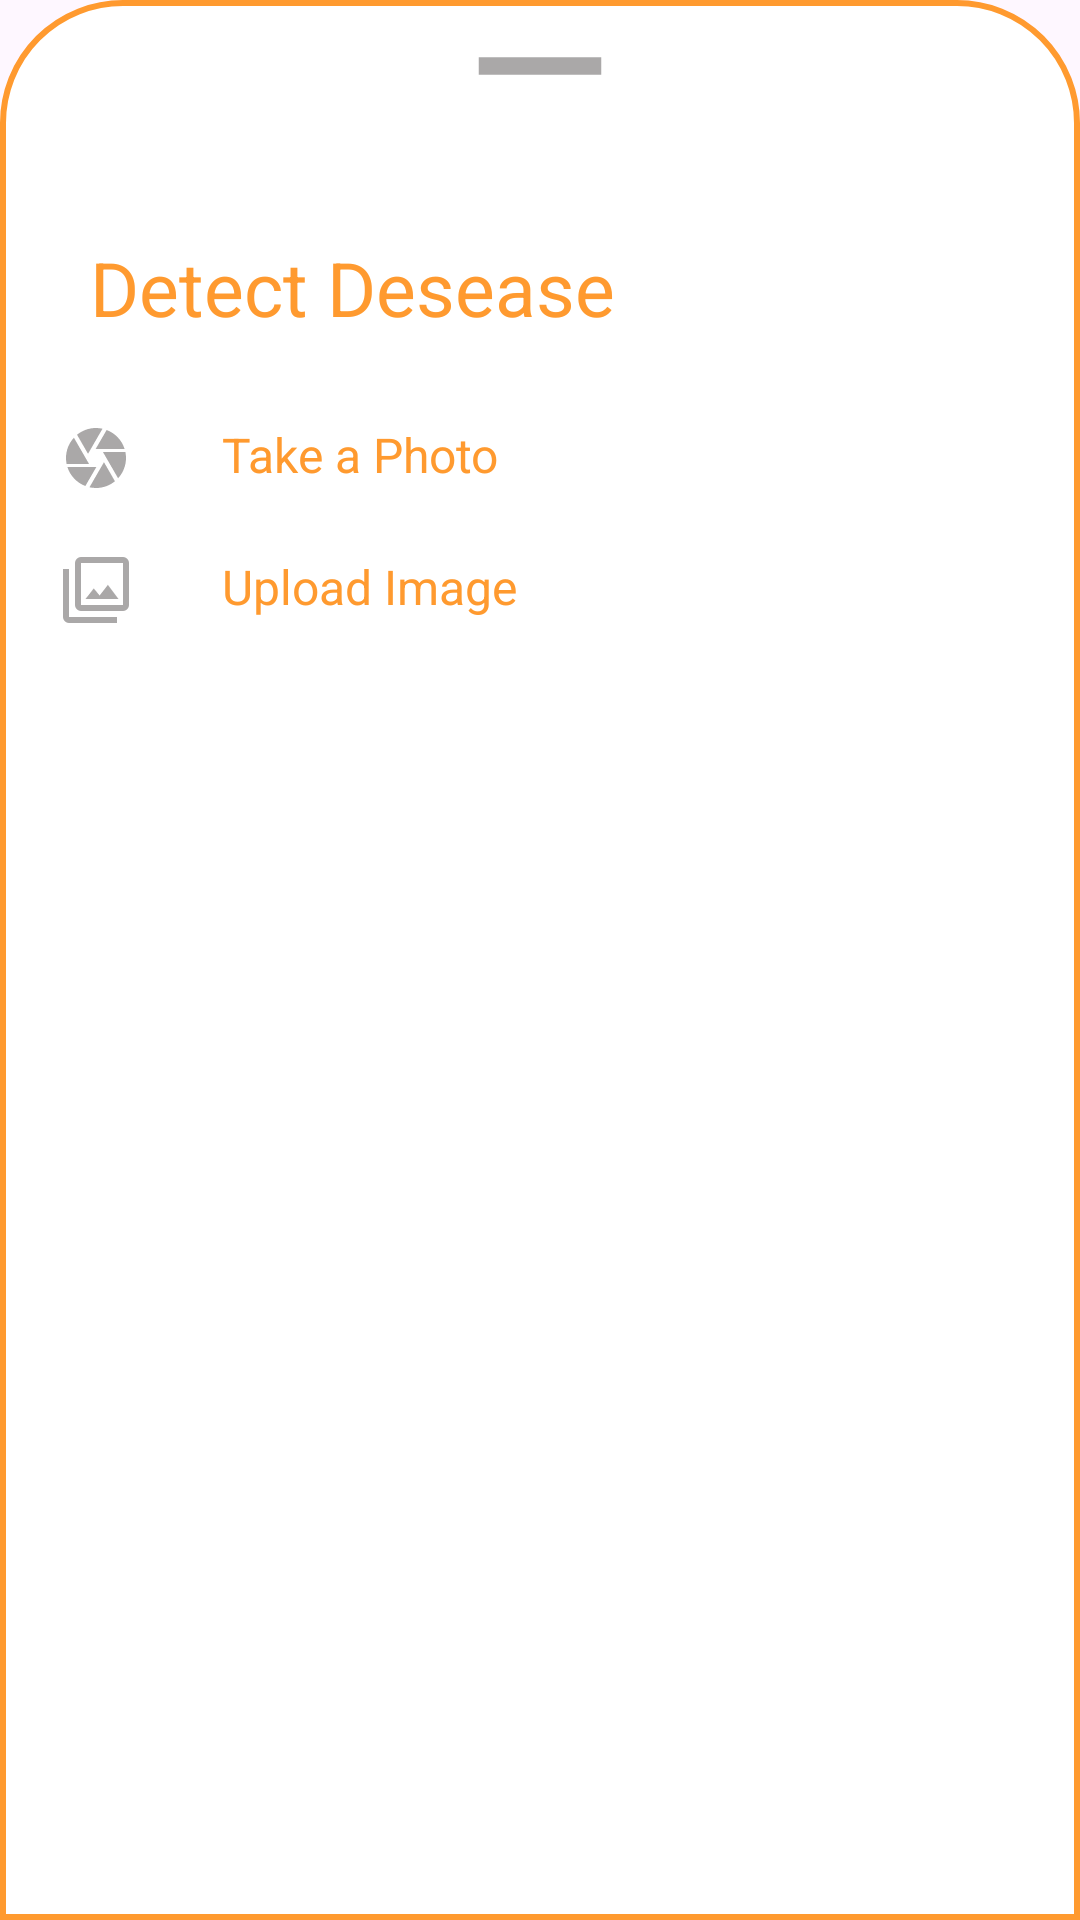

Named icons in this screenshot (1080px×1920px) and their centers, point (x, y):
camera iris: point (96, 458)
multiple: point (96, 590)
